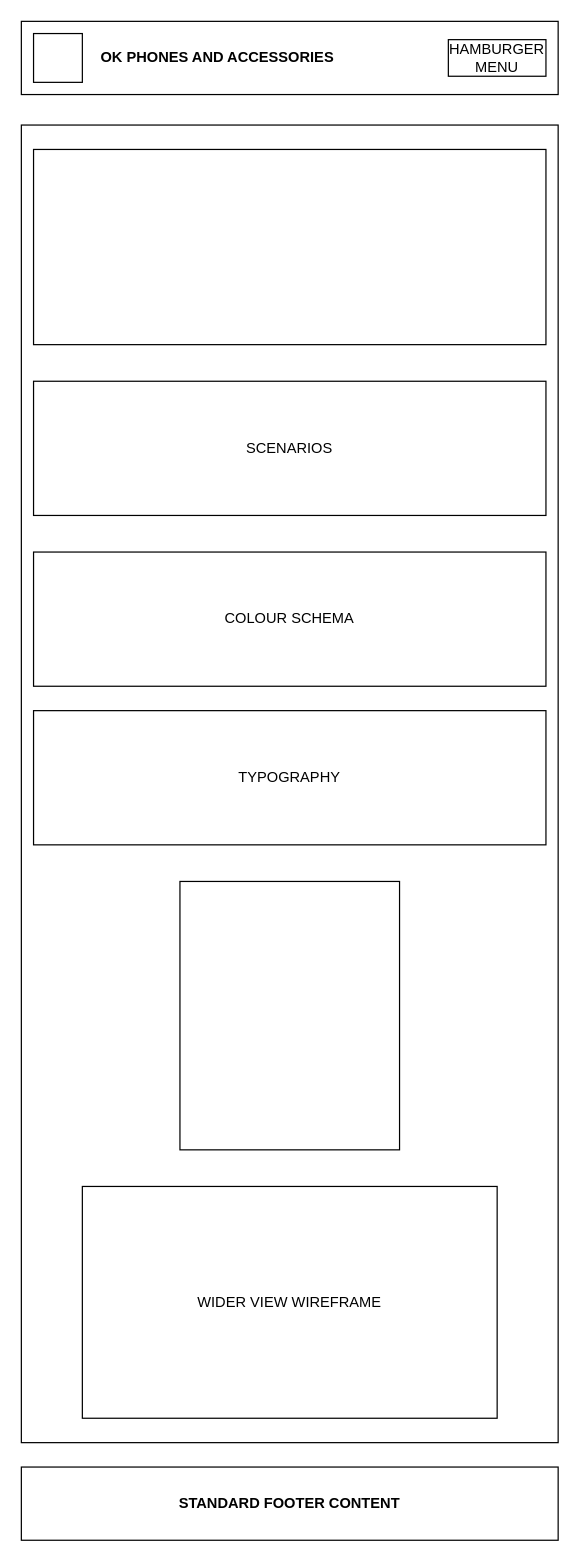
This 580x1562 diagram has some shape labels left out. Here are the shapes that lost their labels. From the top down, the centre of each, then its label:
At pixel 57 57: "LOGO".
At pixel 289 246: "HERO IMAGE SHORT TEXT INTRO".
At pixel 289 1015: "MOBILE VIEW WIREFREAME".
